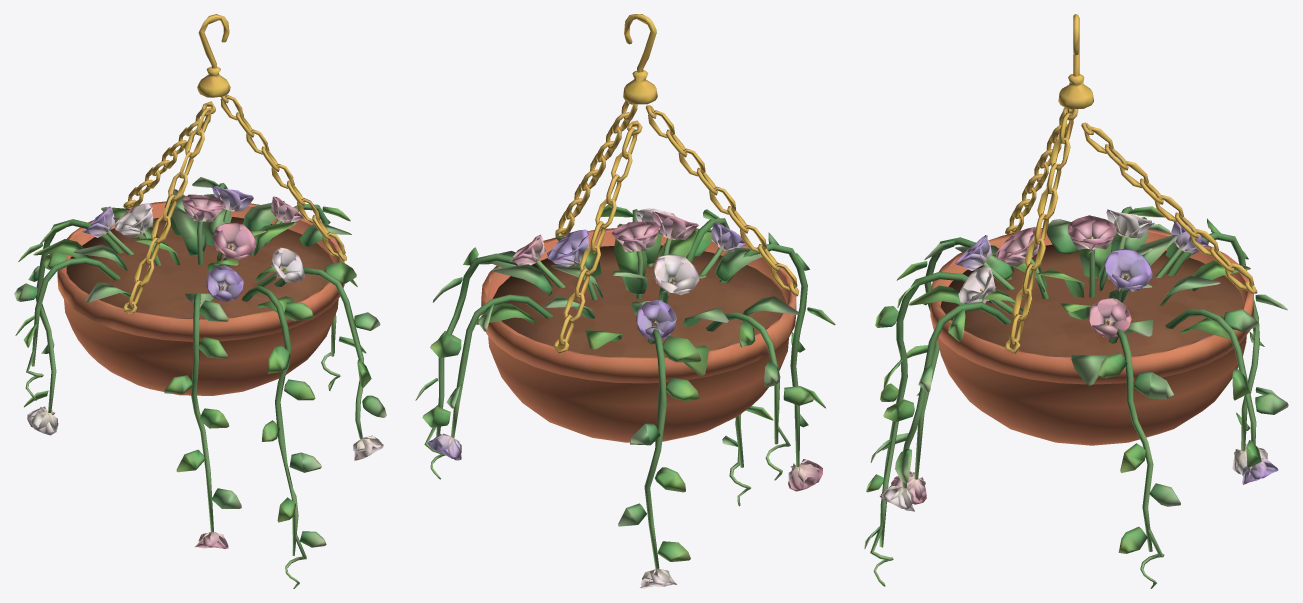
File: flowerbasket.glb
3 views of the same model, side by side, from view 1: azimuth 30°, elevation 25°; view 2: azimuth 150°, elevation 25°; view 3: azimuth 270°, elevation 25° (orthographic). The views are drawn at different scales.
Parts seen in each view (by area): view 1: hanging-basket_body; view 2: hanging-basket_body; view 3: hanging-basket_body.
Part boxes in pixels (x1=…): hanging-basket_body: x1=14, y1=14, x2=386, y2=588; hanging-basket_body: x1=415, y1=14, x2=835, y2=588; hanging-basket_body: x1=864, y1=14, x2=1288, y2=588.
Size of the model in its own units: 0.3184 by 0.4512 by 0.3031.
Materials: 1 (1 with a texture image).
